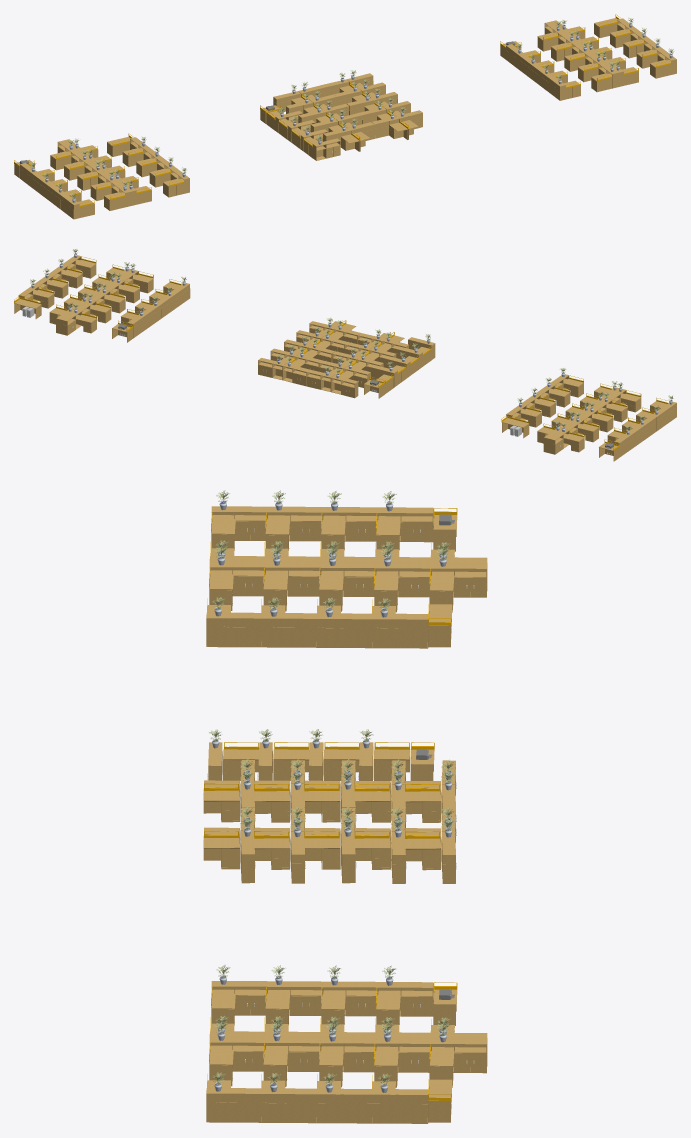
File: 4楼桌椅.gltf
3 views of the same model, one above another, from view 1: azimuth 30°, elevation 25°; view 2: azimuth 150°, elevation 25°; view 3: azimuth 270°, elevation 25° (orthographic). The views are drawn at different scales.
Size of the model in its own units: 41.57 by 1.51 by 8.47.
Materials: 16 (1 with a texture image).
